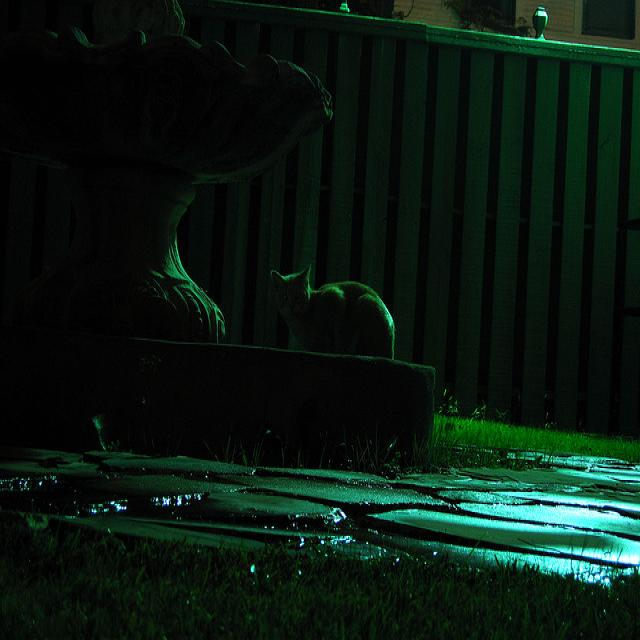Cat: (276, 251, 417, 397)
